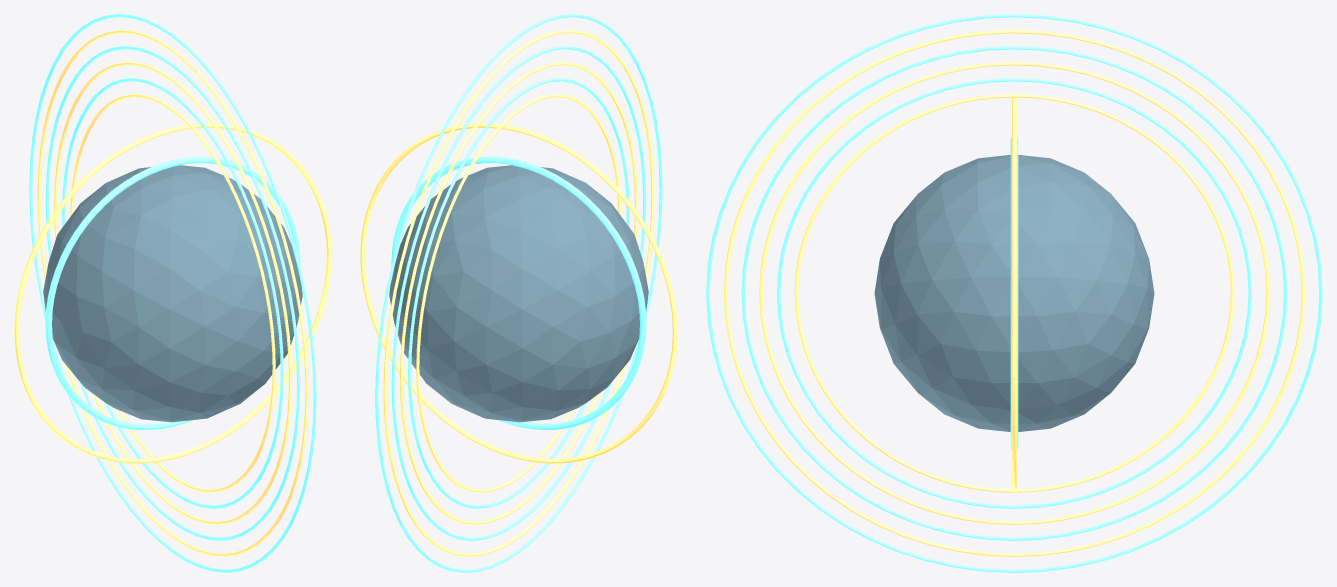
Rendered from hexad-data-core.glb.
The picture shows the model from 3 angles, left to right: view 1: azimuth 30°, elevation 25°; view 2: azimuth 150°, elevation 25°; view 3: azimuth 270°, elevation 25°; orthographic projection. The views are drawn at different scales.
Parts seen in each view (by area): view 1: Base, Outer_Ring, Attribute_Ring_6, Attribute_Ring_5, Inner_Ring, Attribute_Ring_4, Attribute_Ring_3, Attribute_Ring_2, Attribute_Ring_1; view 2: Base, Outer_Ring, Attribute_Ring_6, Attribute_Ring_5, Inner_Ring, Attribute_Ring_4, Attribute_Ring_3, Attribute_Ring_2, Attribute_Ring_1; view 3: Base, Attribute_Ring_6, Attribute_Ring_5, Attribute_Ring_4, Attribute_Ring_3, Attribute_Ring_2, Attribute_Ring_1, Outer_Ring, Inner_Ring.
Part boxes in pixels (x1=…): Base: x1=43, y1=165, x2=302, y2=422; Outer_Ring: x1=14, y1=123, x2=331, y2=463; Attribute_Ring_6: x1=29, y1=14, x2=316, y2=572; Attribute_Ring_5: x1=37, y1=30, x2=308, y2=556; Inner_Ring: x1=45, y1=156, x2=300, y2=430; Attribute_Ring_4: x1=45, y1=46, x2=300, y2=540; Attribute_Ring_3: x1=54, y1=62, x2=291, y2=524; Attribute_Ring_2: x1=62, y1=78, x2=283, y2=508; Attribute_Ring_1: x1=70, y1=94, x2=275, y2=492; Base: x1=389, y1=165, x2=648, y2=422; Outer_Ring: x1=360, y1=123, x2=677, y2=463; Attribute_Ring_6: x1=375, y1=14, x2=662, y2=572; Attribute_Ring_5: x1=383, y1=30, x2=654, y2=556; Inner_Ring: x1=391, y1=156, x2=646, y2=430; Attribute_Ring_4: x1=391, y1=46, x2=646, y2=540; Attribute_Ring_3: x1=400, y1=62, x2=637, y2=524; Attribute_Ring_2: x1=408, y1=78, x2=629, y2=508; Attribute_Ring_1: x1=416, y1=94, x2=621, y2=492; Base: x1=874, y1=155, x2=1154, y2=431; Attribute_Ring_6: x1=706, y1=14, x2=1322, y2=572; Attribute_Ring_5: x1=724, y1=30, x2=1304, y2=556; Attribute_Ring_4: x1=741, y1=46, x2=1287, y2=540; Attribute_Ring_3: x1=759, y1=62, x2=1269, y2=524; Attribute_Ring_2: x1=777, y1=78, x2=1251, y2=508; Attribute_Ring_1: x1=794, y1=94, x2=1234, y2=492; Outer_Ring: x1=1012, y1=97, x2=1016, y2=490; Inner_Ring: x1=1010, y1=136, x2=1018, y2=450.
Bounding box in the file's own units: 2.68 × 4.18 × 4.18.
